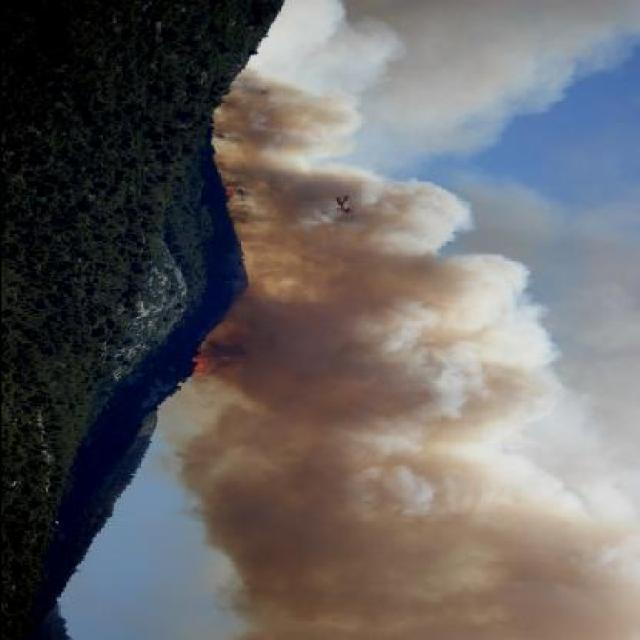Fire: (192, 344, 210, 383)
Smoke: (210, 0, 640, 640)
